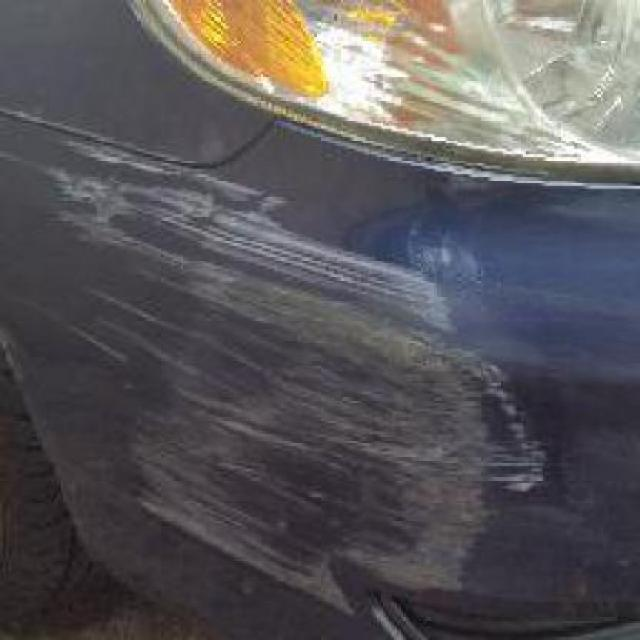dent-or-scratch: (46, 139, 523, 619)
